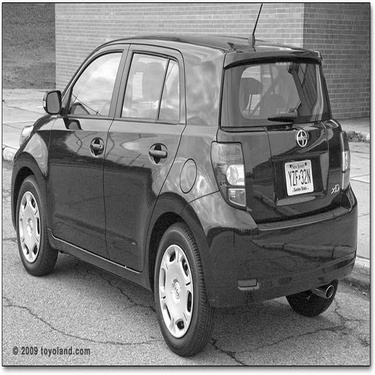car: (5, 26, 359, 356)
